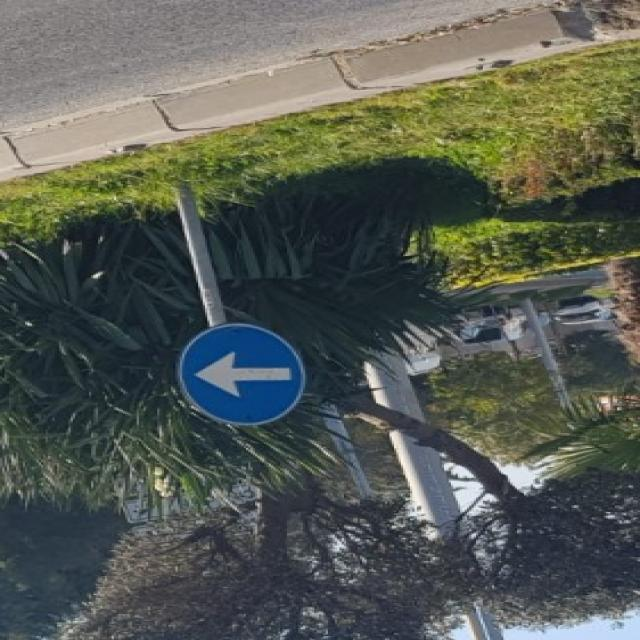Turn Left: (174, 319, 306, 425)
